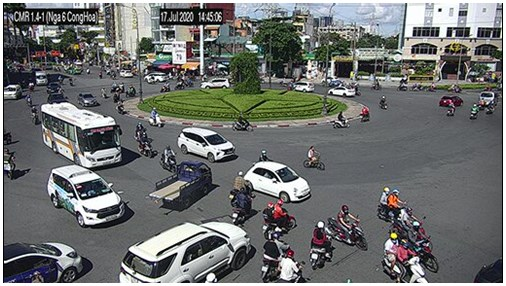xe_hoi: (120, 221, 253, 282), (47, 165, 124, 227), (3, 241, 83, 283), (243, 161, 311, 204), (177, 127, 237, 164), (201, 77, 231, 89), (2, 84, 23, 101), (76, 91, 97, 108), (439, 94, 463, 107), (44, 92, 70, 104), (327, 86, 355, 97), (291, 80, 314, 92), (144, 72, 168, 83), (480, 91, 497, 106), (45, 82, 66, 93), (120, 68, 133, 78)
xe_khach: (34, 71, 47, 85)
xe_may: (382, 233, 427, 284), (329, 205, 369, 253), (391, 207, 433, 250), (408, 221, 439, 273), (261, 232, 293, 281), (376, 186, 416, 225), (263, 199, 297, 241), (308, 219, 334, 270), (276, 248, 306, 283), (228, 169, 250, 210), (232, 188, 252, 228), (305, 146, 325, 171), (160, 145, 178, 172), (3, 147, 17, 181), (137, 132, 154, 159), (234, 113, 253, 133), (134, 121, 150, 144), (334, 109, 350, 130), (148, 106, 161, 128), (446, 81, 462, 93), (360, 105, 371, 122), (469, 103, 480, 120), (116, 98, 126, 115), (30, 105, 38, 126), (446, 101, 457, 116), (125, 85, 137, 98), (160, 80, 171, 94), (379, 94, 388, 111), (396, 79, 408, 91), (410, 81, 421, 92), (175, 79, 185, 91), (109, 80, 118, 93), (371, 79, 381, 90), (113, 87, 120, 102), (427, 80, 435, 93), (26, 91, 32, 108), (102, 87, 108, 101), (68, 76, 73, 87)
